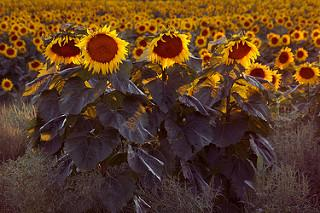sunflower: (75, 25, 129, 73), (150, 32, 190, 70), (225, 36, 260, 69), (47, 34, 80, 63), (293, 62, 320, 84), (275, 47, 293, 69), (3, 45, 17, 58), (294, 47, 307, 61), (268, 35, 281, 47), (195, 34, 206, 48), (1, 78, 13, 90)
